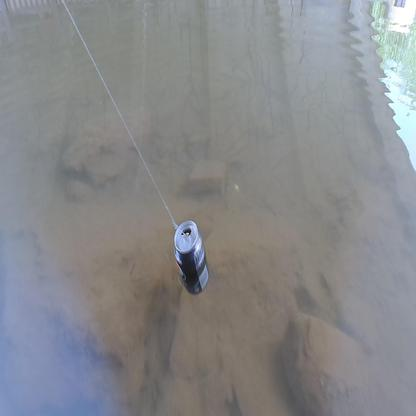can: (175, 220, 209, 296)
